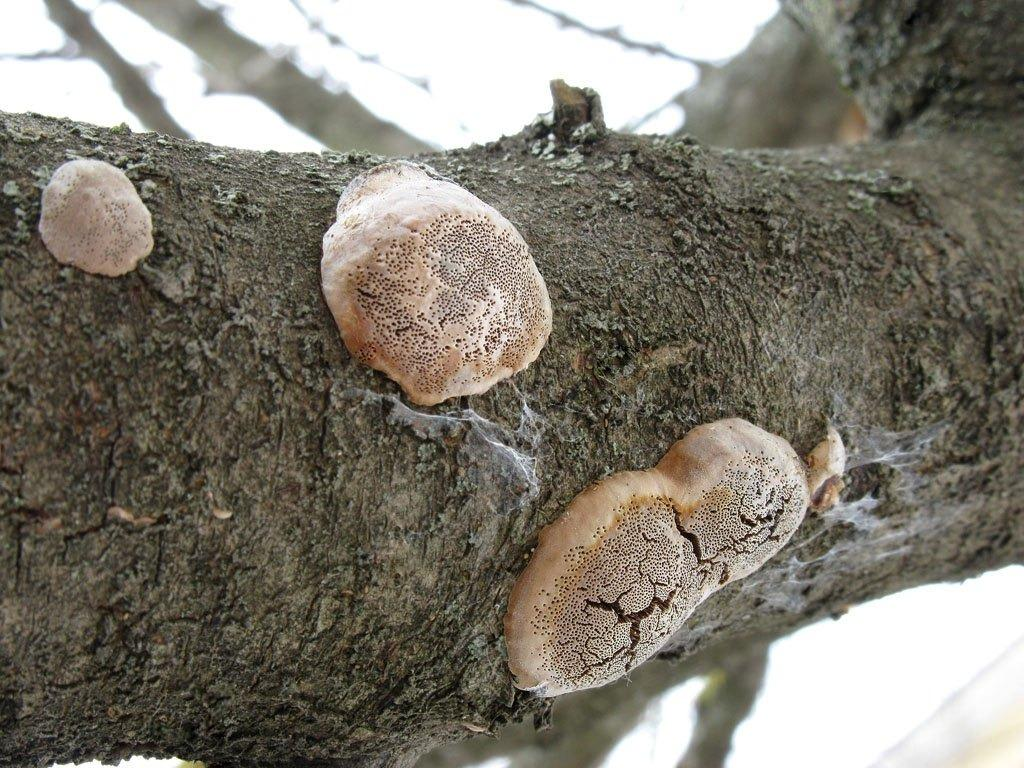Plum tinder fungus: (520, 413, 831, 695), (316, 141, 577, 403), (20, 151, 203, 282)
